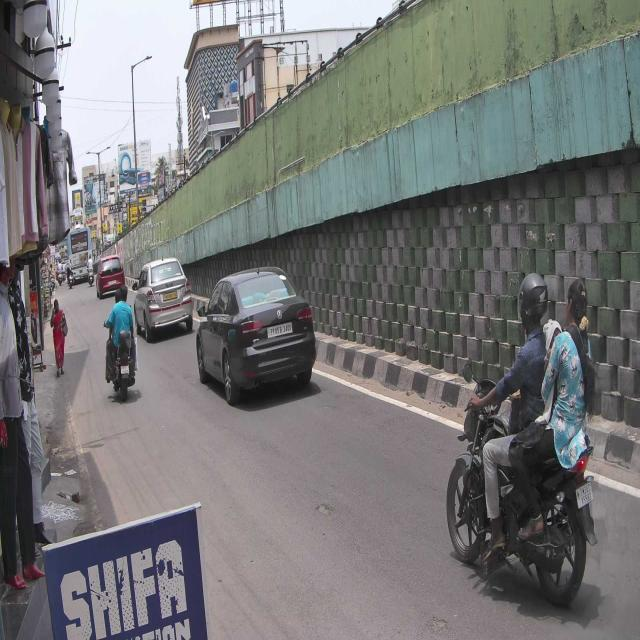double_rider: (446, 270, 601, 608)
